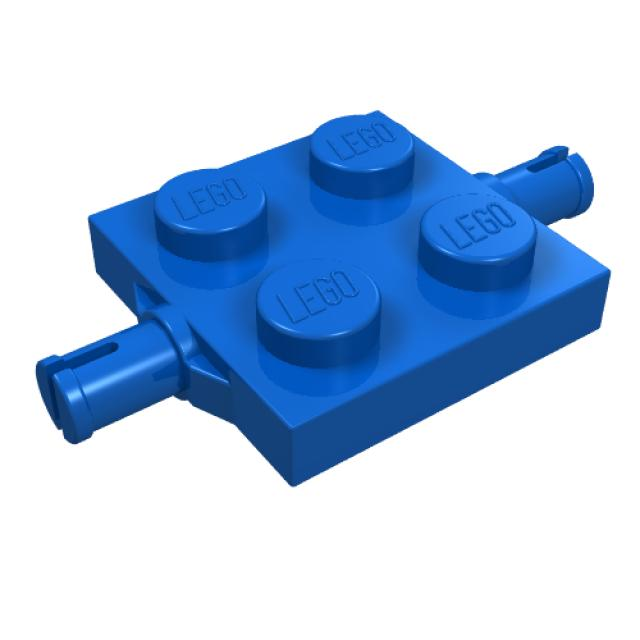Blue_Medium: (33, 111, 613, 489)
